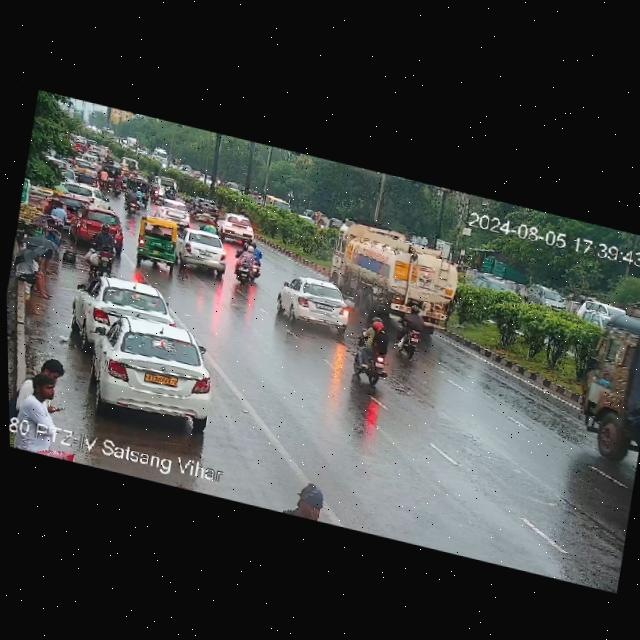car: (79, 308, 223, 433), (70, 268, 177, 353), (270, 271, 357, 338), (131, 212, 188, 273), (175, 226, 234, 279), (54, 178, 112, 209), (214, 208, 261, 245), (67, 199, 103, 244), (527, 281, 567, 312), (157, 198, 195, 228), (578, 297, 609, 326), (192, 194, 223, 221), (74, 165, 99, 187), (155, 174, 179, 191), (74, 154, 99, 170), (118, 154, 139, 172), (106, 163, 116, 186)
motorcycle: (341, 306, 399, 391), (387, 301, 430, 360), (82, 219, 121, 278), (226, 237, 268, 290), (127, 175, 155, 207), (122, 184, 148, 216), (111, 173, 130, 197), (120, 164, 142, 179), (98, 165, 112, 188), (110, 174, 123, 197), (161, 184, 179, 200), (149, 178, 161, 201), (146, 170, 155, 181)
person: (271, 474, 333, 523), (22, 368, 61, 421), (15, 250, 53, 299), (36, 218, 61, 275), (40, 353, 69, 379), (45, 196, 69, 225), (199, 216, 216, 233)
truck: (329, 215, 476, 341), (567, 291, 640, 467)
